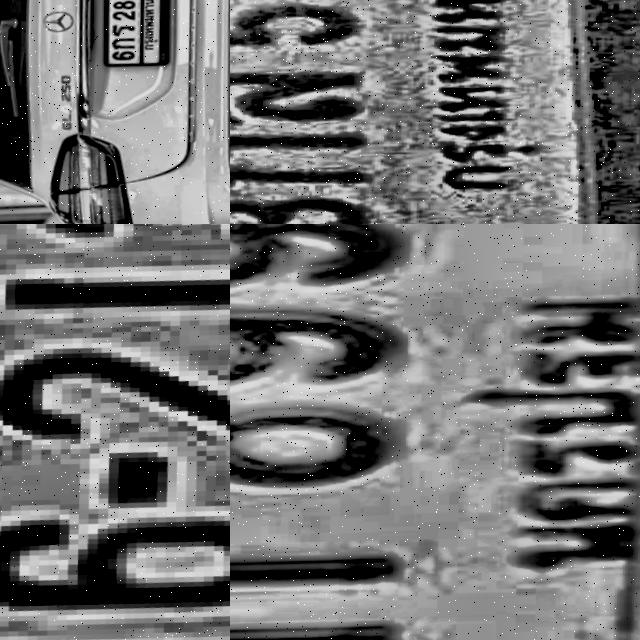license-plate: (230, 224, 640, 640), (0, 224, 230, 640), (230, 0, 640, 224), (89, 0, 172, 79)
